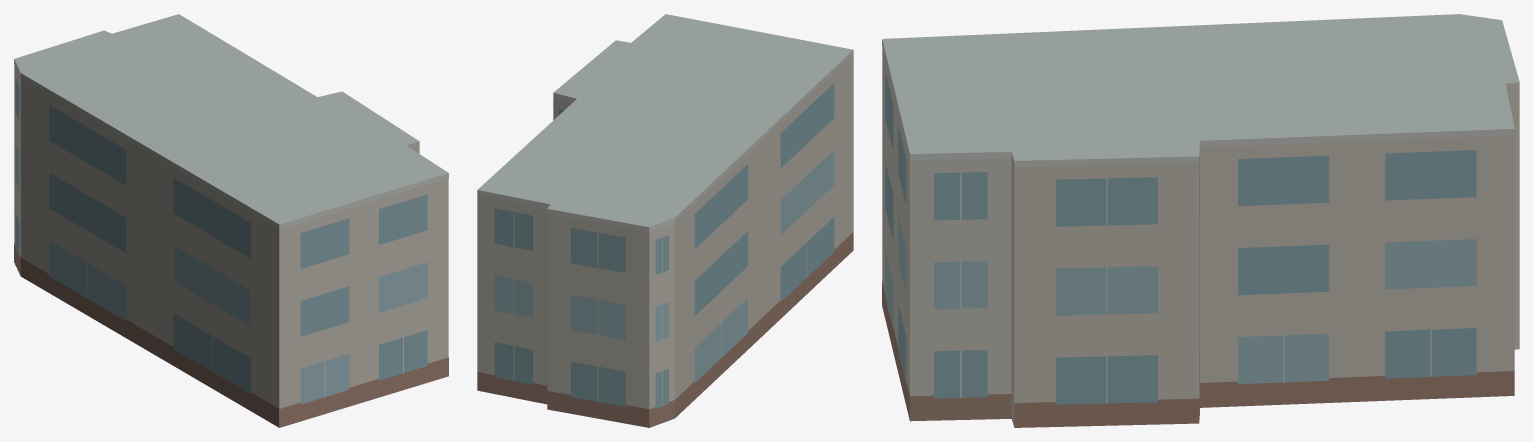
Rendered from survey-upis-32620402.glb.
3 views of the same model, side by side, from view 1: azimuth 30°, elevation 25°; view 2: azimuth 150°, elevation 25°; view 3: azimuth 270°, elevation 25° (orthographic). The views are drawn at different scales.
Visible parts, largest first — view 1: survey-upis-32620402.tmp; view 2: survey-upis-32620402.tmp; view 3: survey-upis-32620402.tmp.
Boxes of the visible parts, x1,y1,x2,y2 form: survey-upis-32620402.tmp: [14, 14, 448, 427]; survey-upis-32620402.tmp: [477, 14, 853, 427]; survey-upis-32620402.tmp: [882, 14, 1519, 427].
Bounding box in the file's own units: 11.93 × 10.1 × 21.87.
